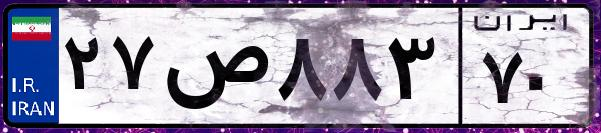0: (525, 38, 570, 115)
2: (57, 26, 110, 100)
3: (385, 28, 445, 110)
7: (475, 38, 525, 113), (110, 28, 158, 98)
8: (270, 28, 330, 110), (330, 28, 385, 110)
ص: (158, 20, 270, 120)
